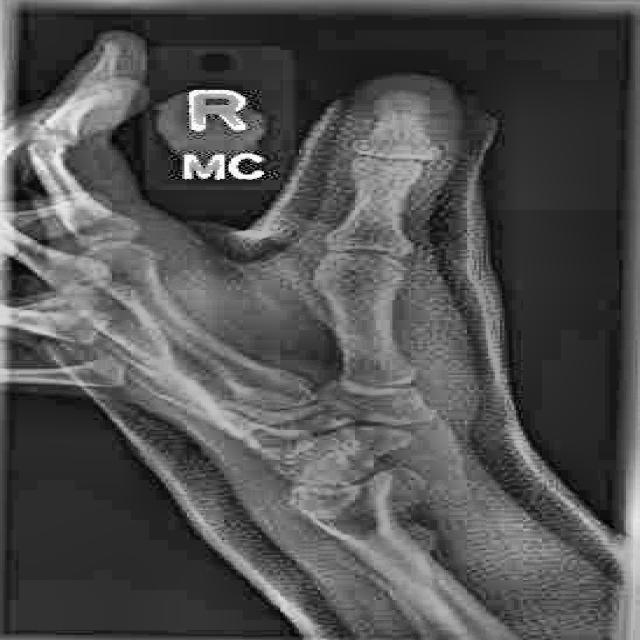fingers positive: (299, 233, 446, 308)
